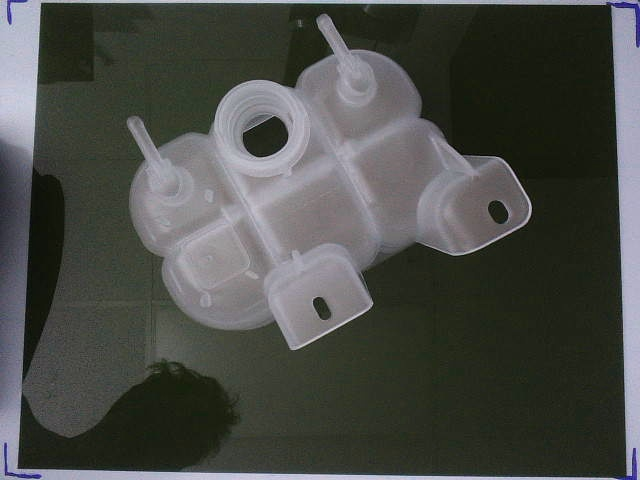reservoir_transparent_Top: (125, 15, 531, 352)
